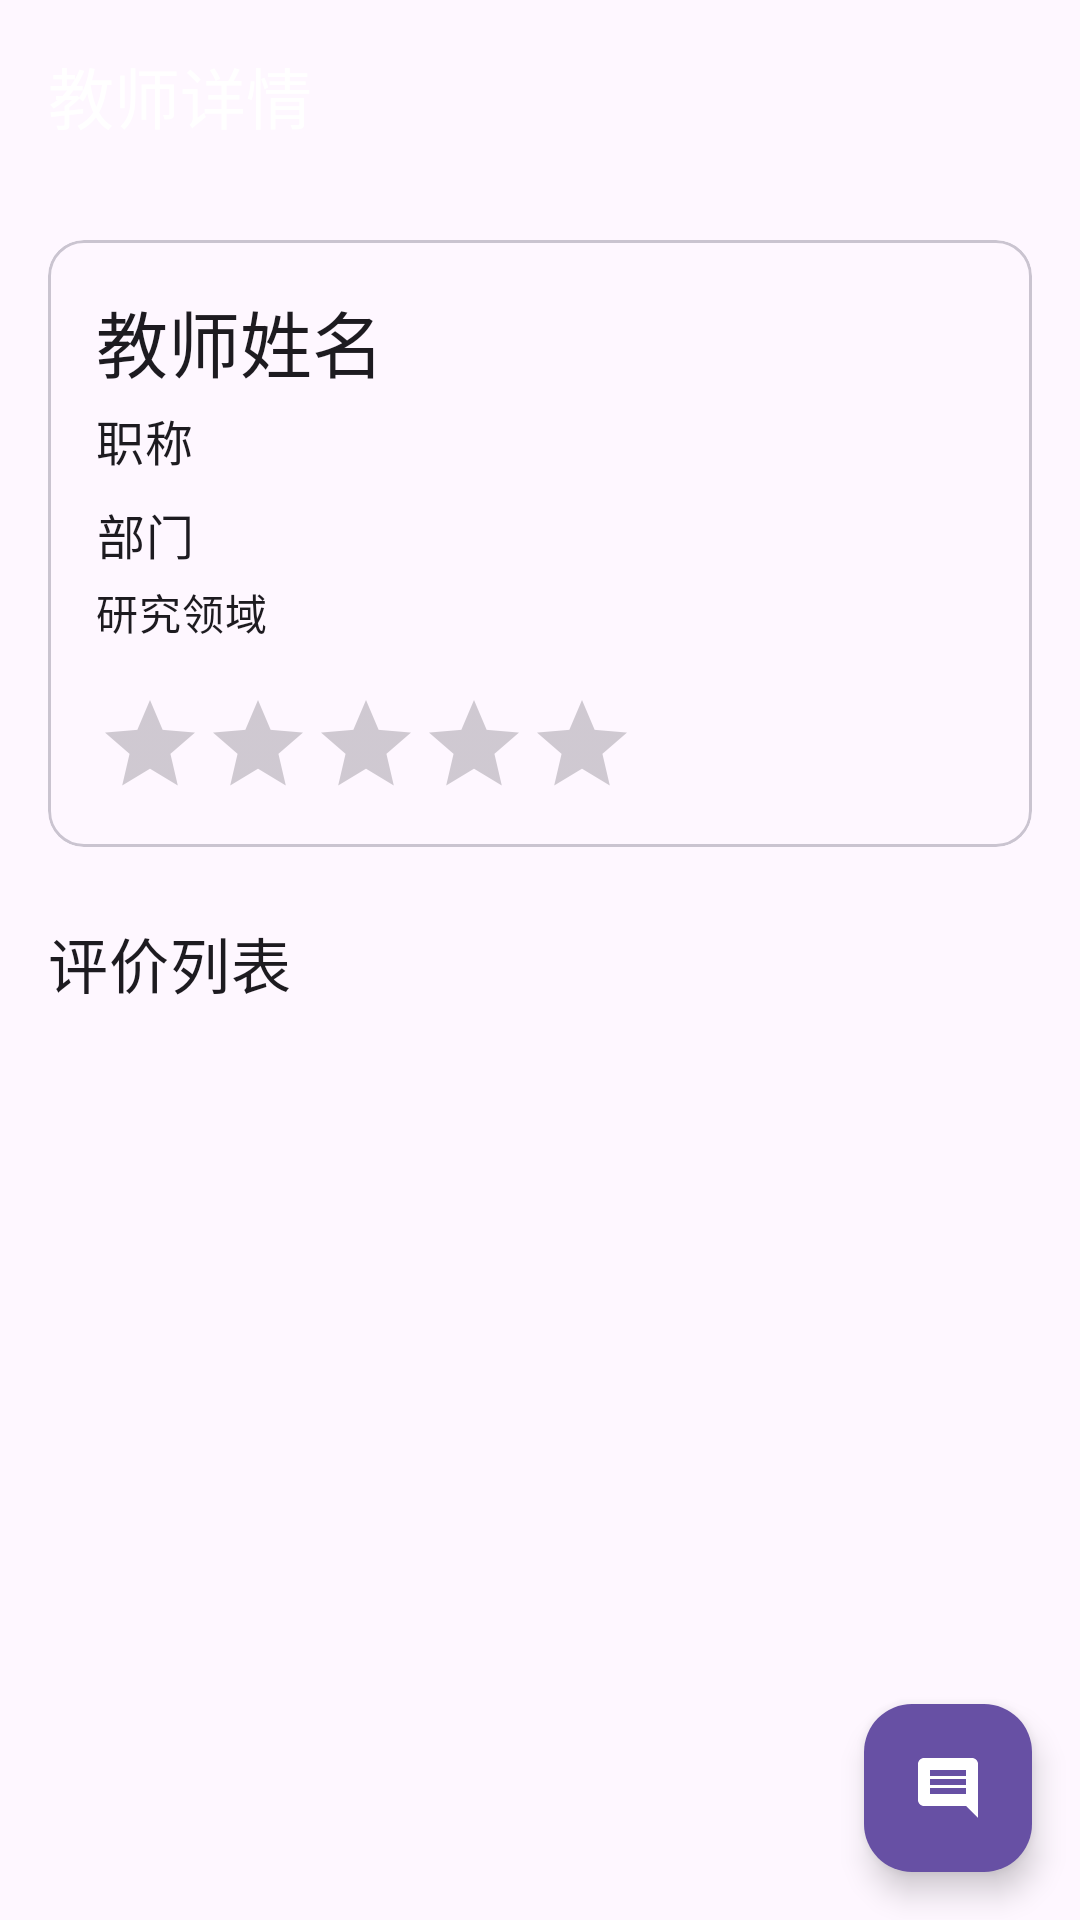

Screen size 1080 x 1920. Icon name, then its box in pixels as (x1, y1, x2, y2):
add comment: (864, 1704, 1032, 1872)
